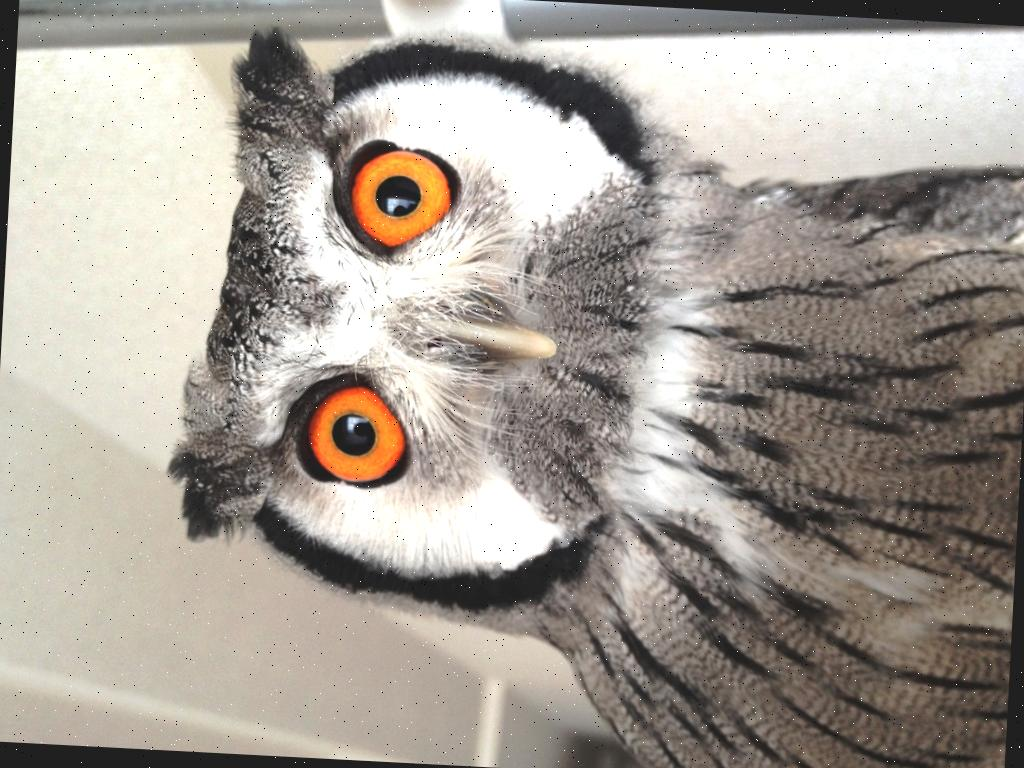Owl: (147, 16, 1024, 768)
